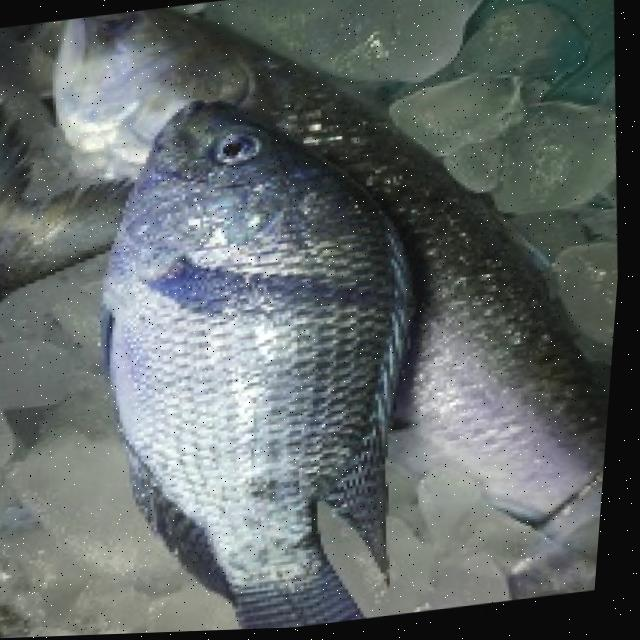Fresh: (50, 26, 470, 637)
